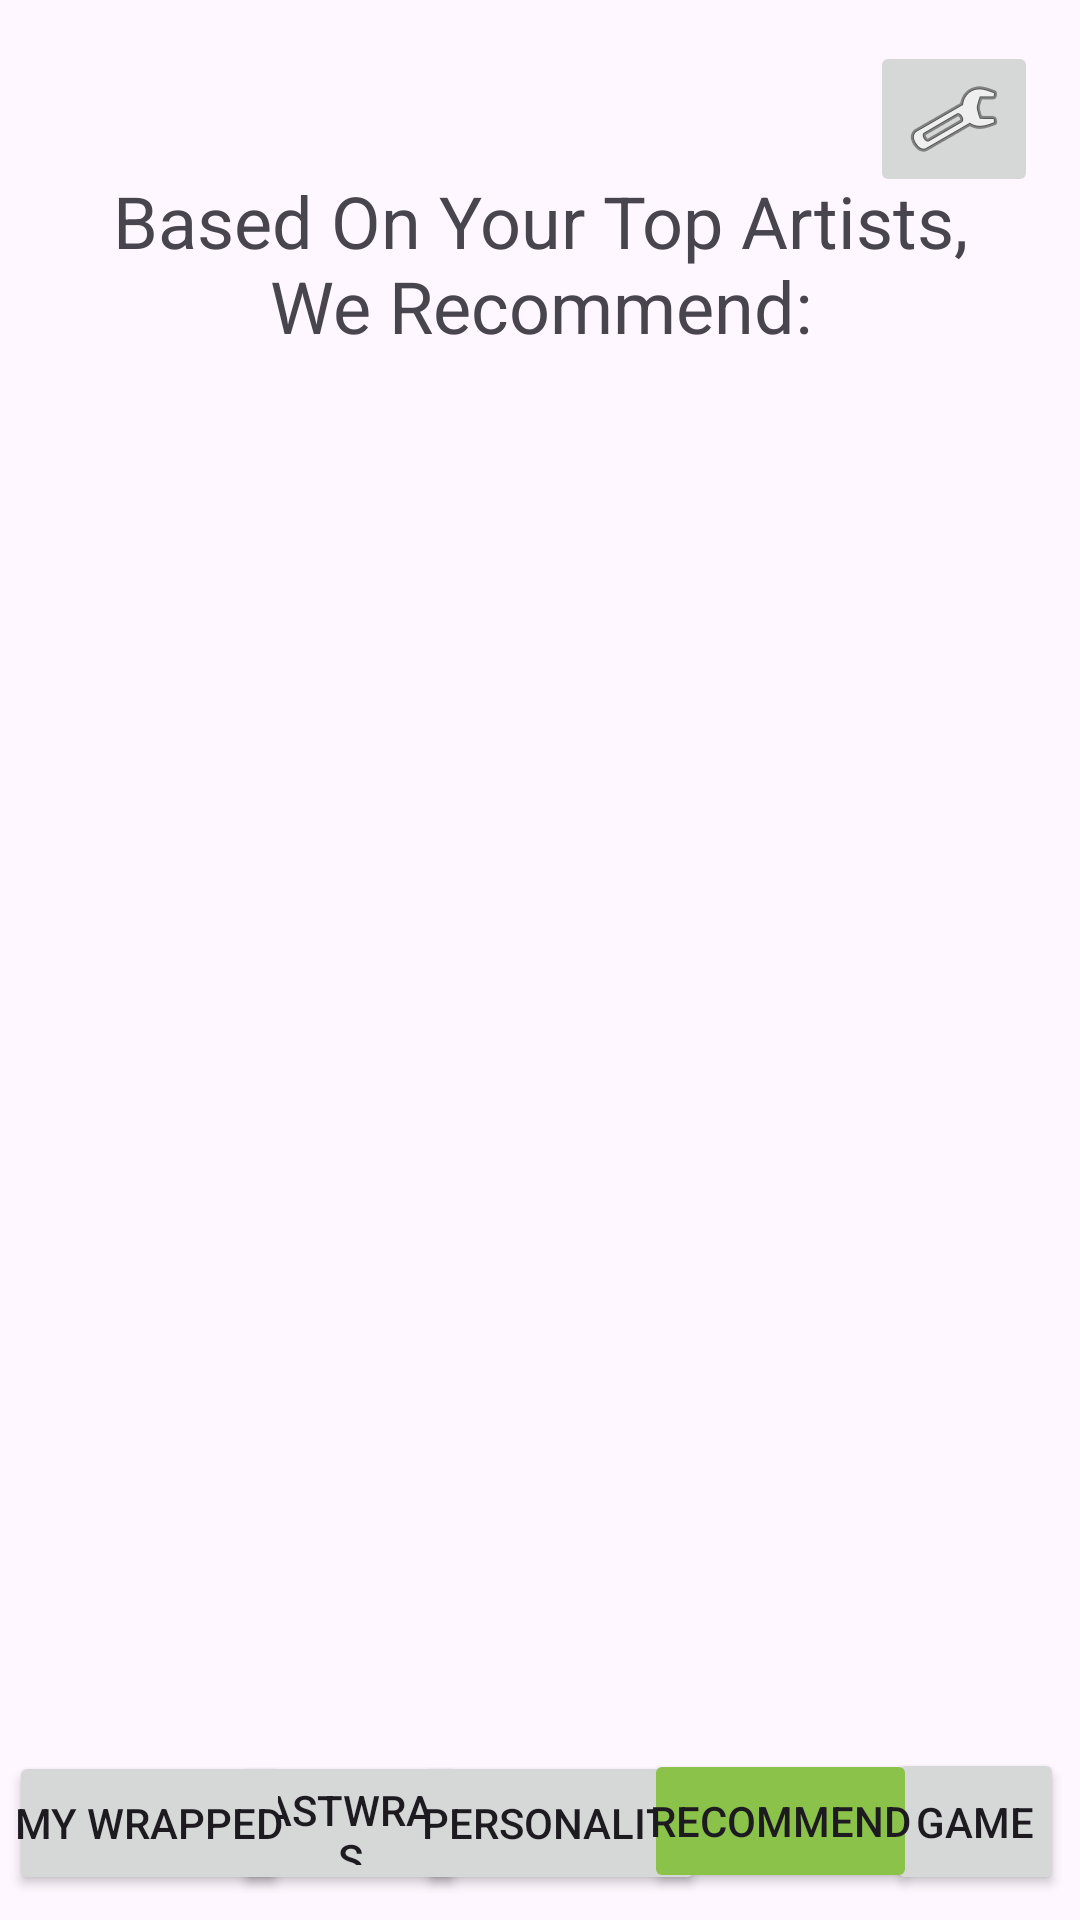

Screen size 1080*1920. Icon name, then its center in pixels as point (x, y):
manage: point (954, 119)
